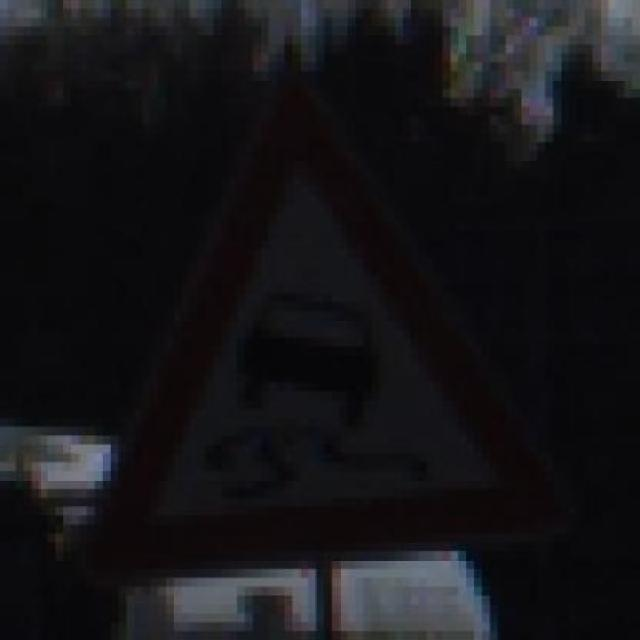Slippery Road Ahead: (74, 62, 548, 578)
